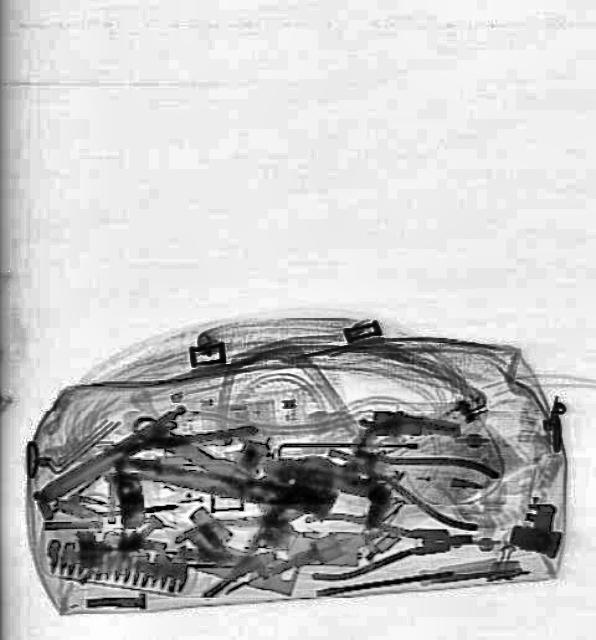Pliers: (318, 416, 501, 534), (169, 474, 317, 598), (301, 504, 471, 582)
Wrench: (123, 392, 317, 532)
